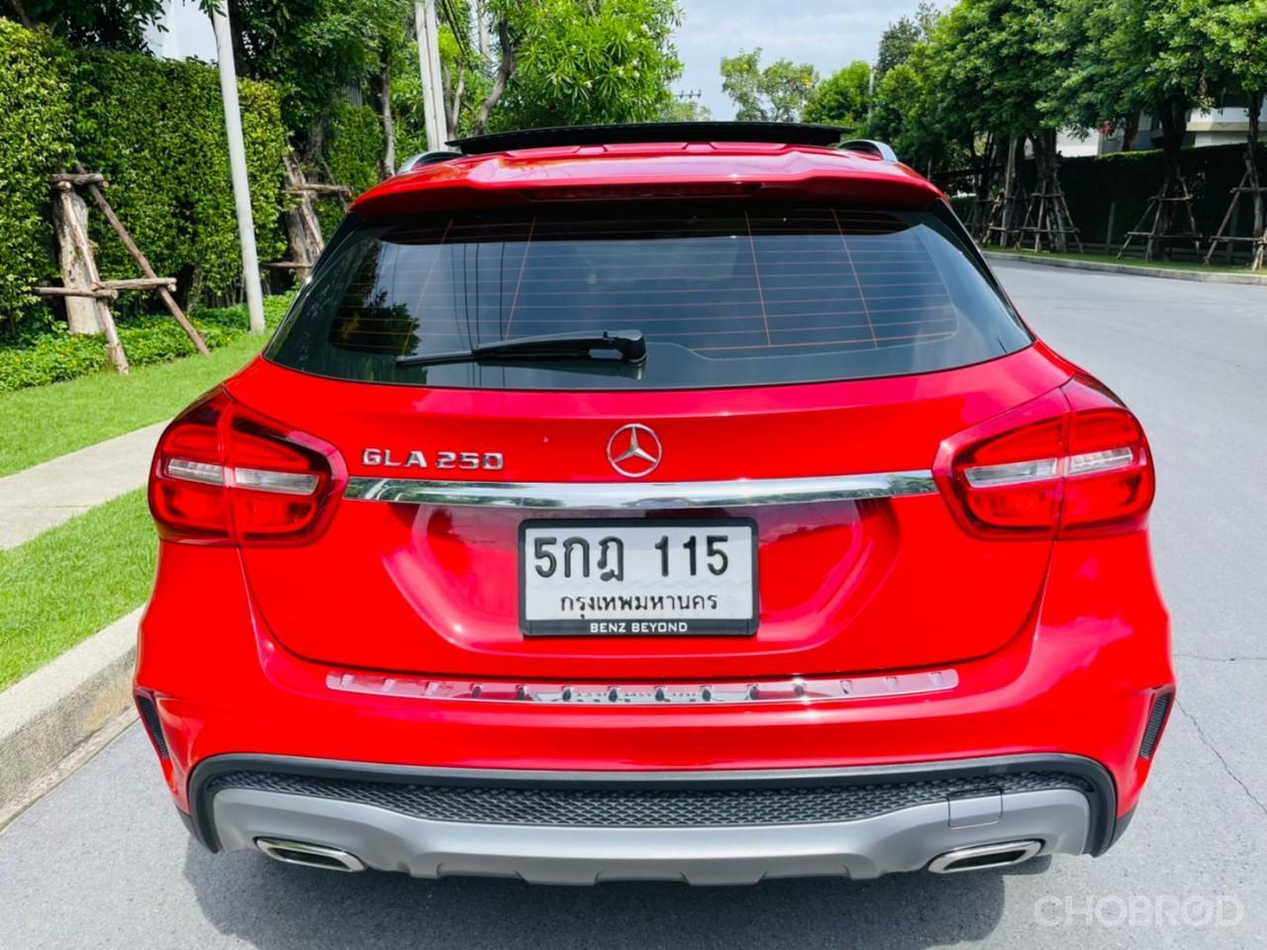license-plate: (512, 506, 766, 641)
